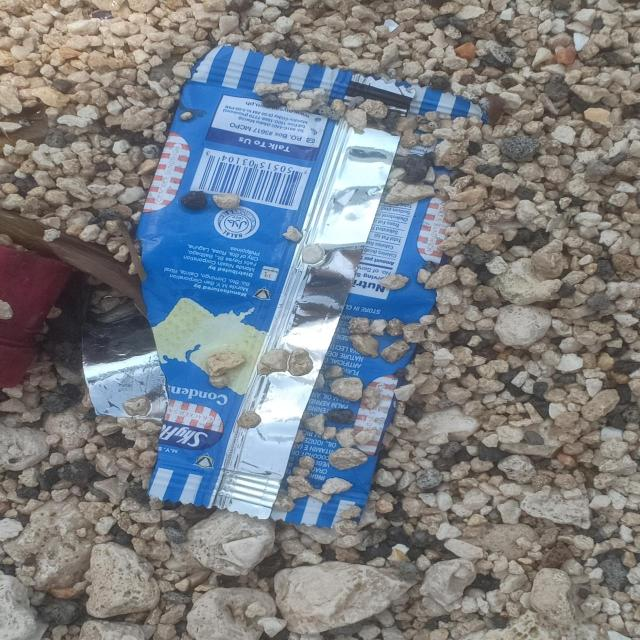plastic_waste: (133, 42, 484, 532)
